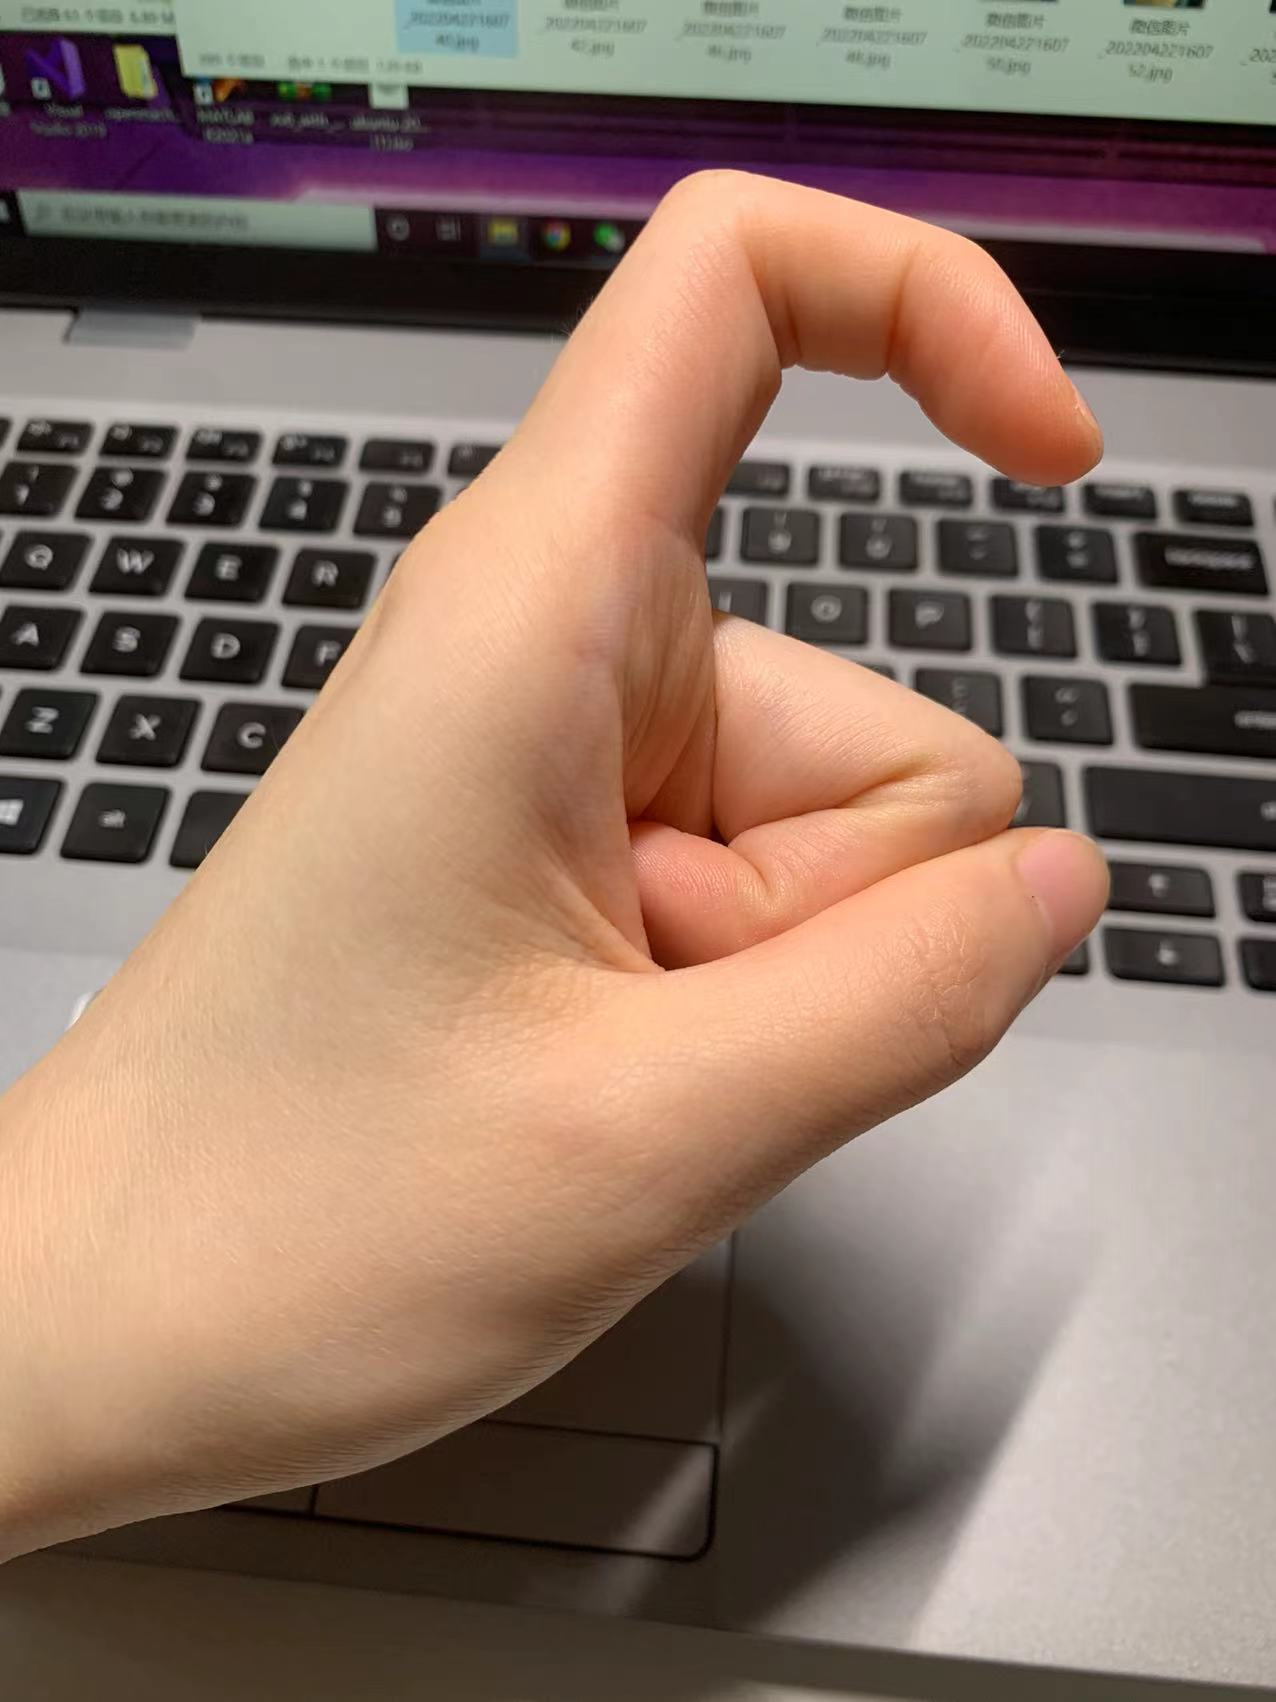anticlockwise: (84, 168, 1127, 1437)
